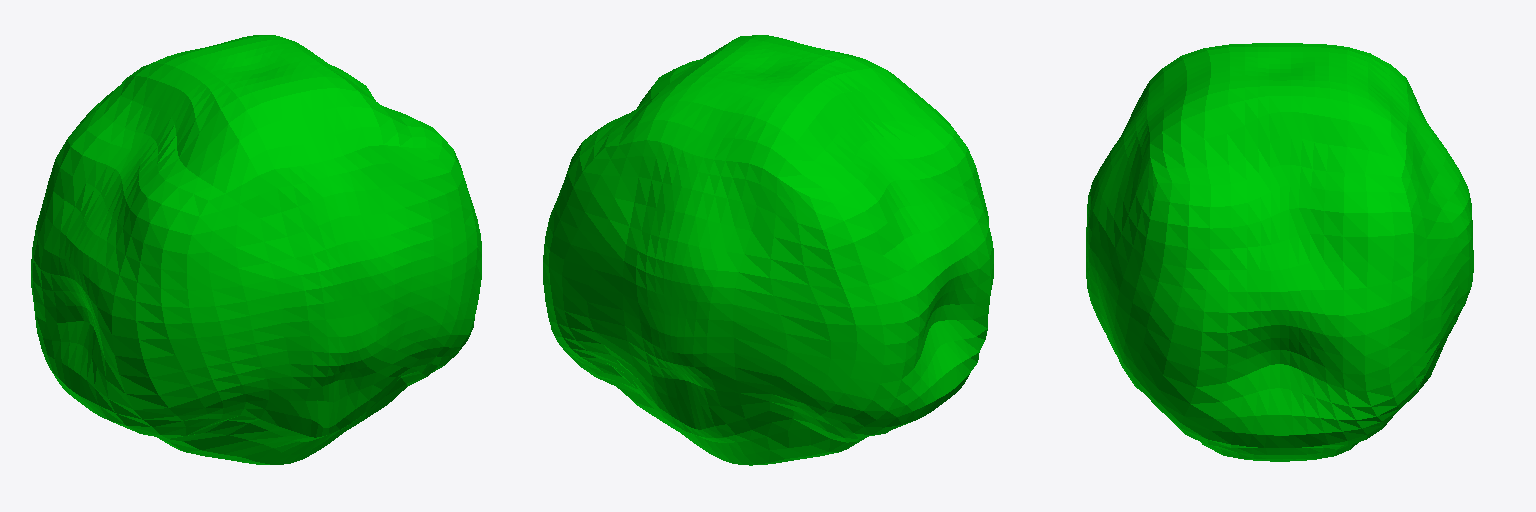
The model's file is Temp_Solid_Bush.obj.
The picture shows the model from 3 angles: view 1: azimuth 30°, elevation 25°; view 2: azimuth 150°, elevation 25°; view 3: azimuth 270°, elevation 25°; orthographic projection.
Visible parts, largest first — view 1: Bush_Cube; view 2: Bush_Cube; view 3: Bush_Cube.
Boxes of the visible parts, x1=… form: Bush_Cube: x1=31, y1=35, x2=481, y2=464; Bush_Cube: x1=543, y1=35, x2=993, y2=465; Bush_Cube: x1=1086, y1=43, x2=1473, y2=461.
Size of the model in its own units: 4.51 by 4.42 by 4.09.